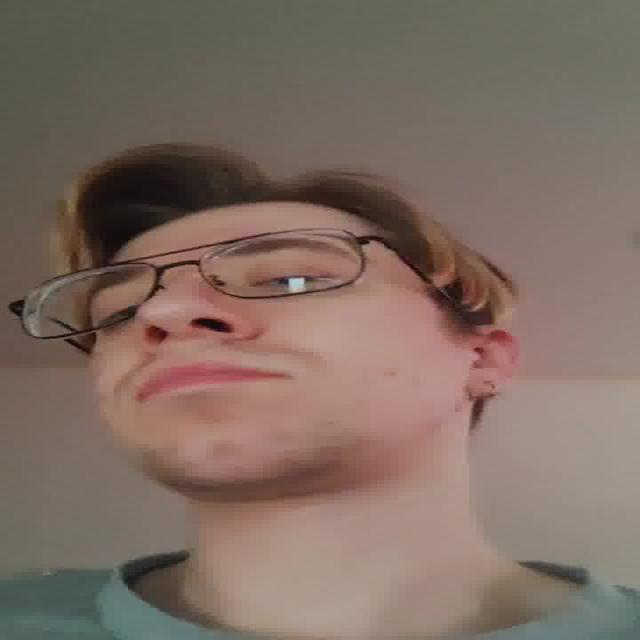earlobe: (464, 378, 507, 396)
eye: (249, 272, 348, 289), (88, 300, 139, 328)
nose: (138, 327, 253, 367)
wholeear: (465, 326, 523, 396)
